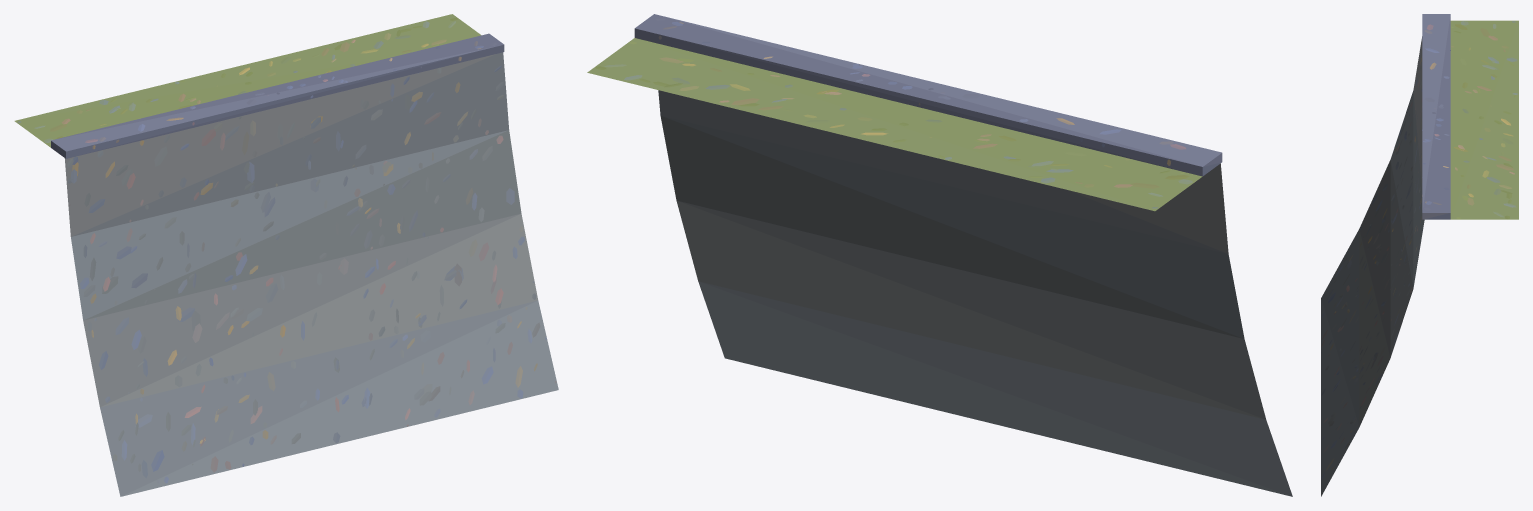
The model's file is HK_Ishigaki_Tall.glb.
The picture shows the model from 3 angles, left to right: view 1: azimuth 30°, elevation 25°; view 2: azimuth 150°, elevation 25°; view 3: azimuth 270°, elevation 25°; orthographic projection. The views are drawn at different scales.
Parts seen in each view (by area): view 1: HK_Ishigaki_Tall; view 2: HK_Ishigaki_Tall; view 3: HK_Ishigaki_Tall.
Boxes of the visible parts, left/top/right/bottom form: HK_Ishigaki_Tall: left=14, top=14, right=558, bottom=496; HK_Ishigaki_Tall: left=587, top=14, right=1292, bottom=496; HK_Ishigaki_Tall: left=1321, top=14, right=1518, bottom=496.
Size of the model in its own units: 10 by 6.67 by 4.2.
